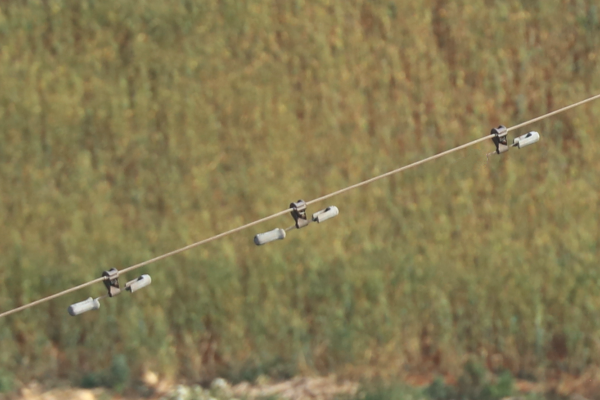damper: (250, 195, 339, 247), (67, 265, 153, 317)
damper_defect: (481, 123, 541, 160)
